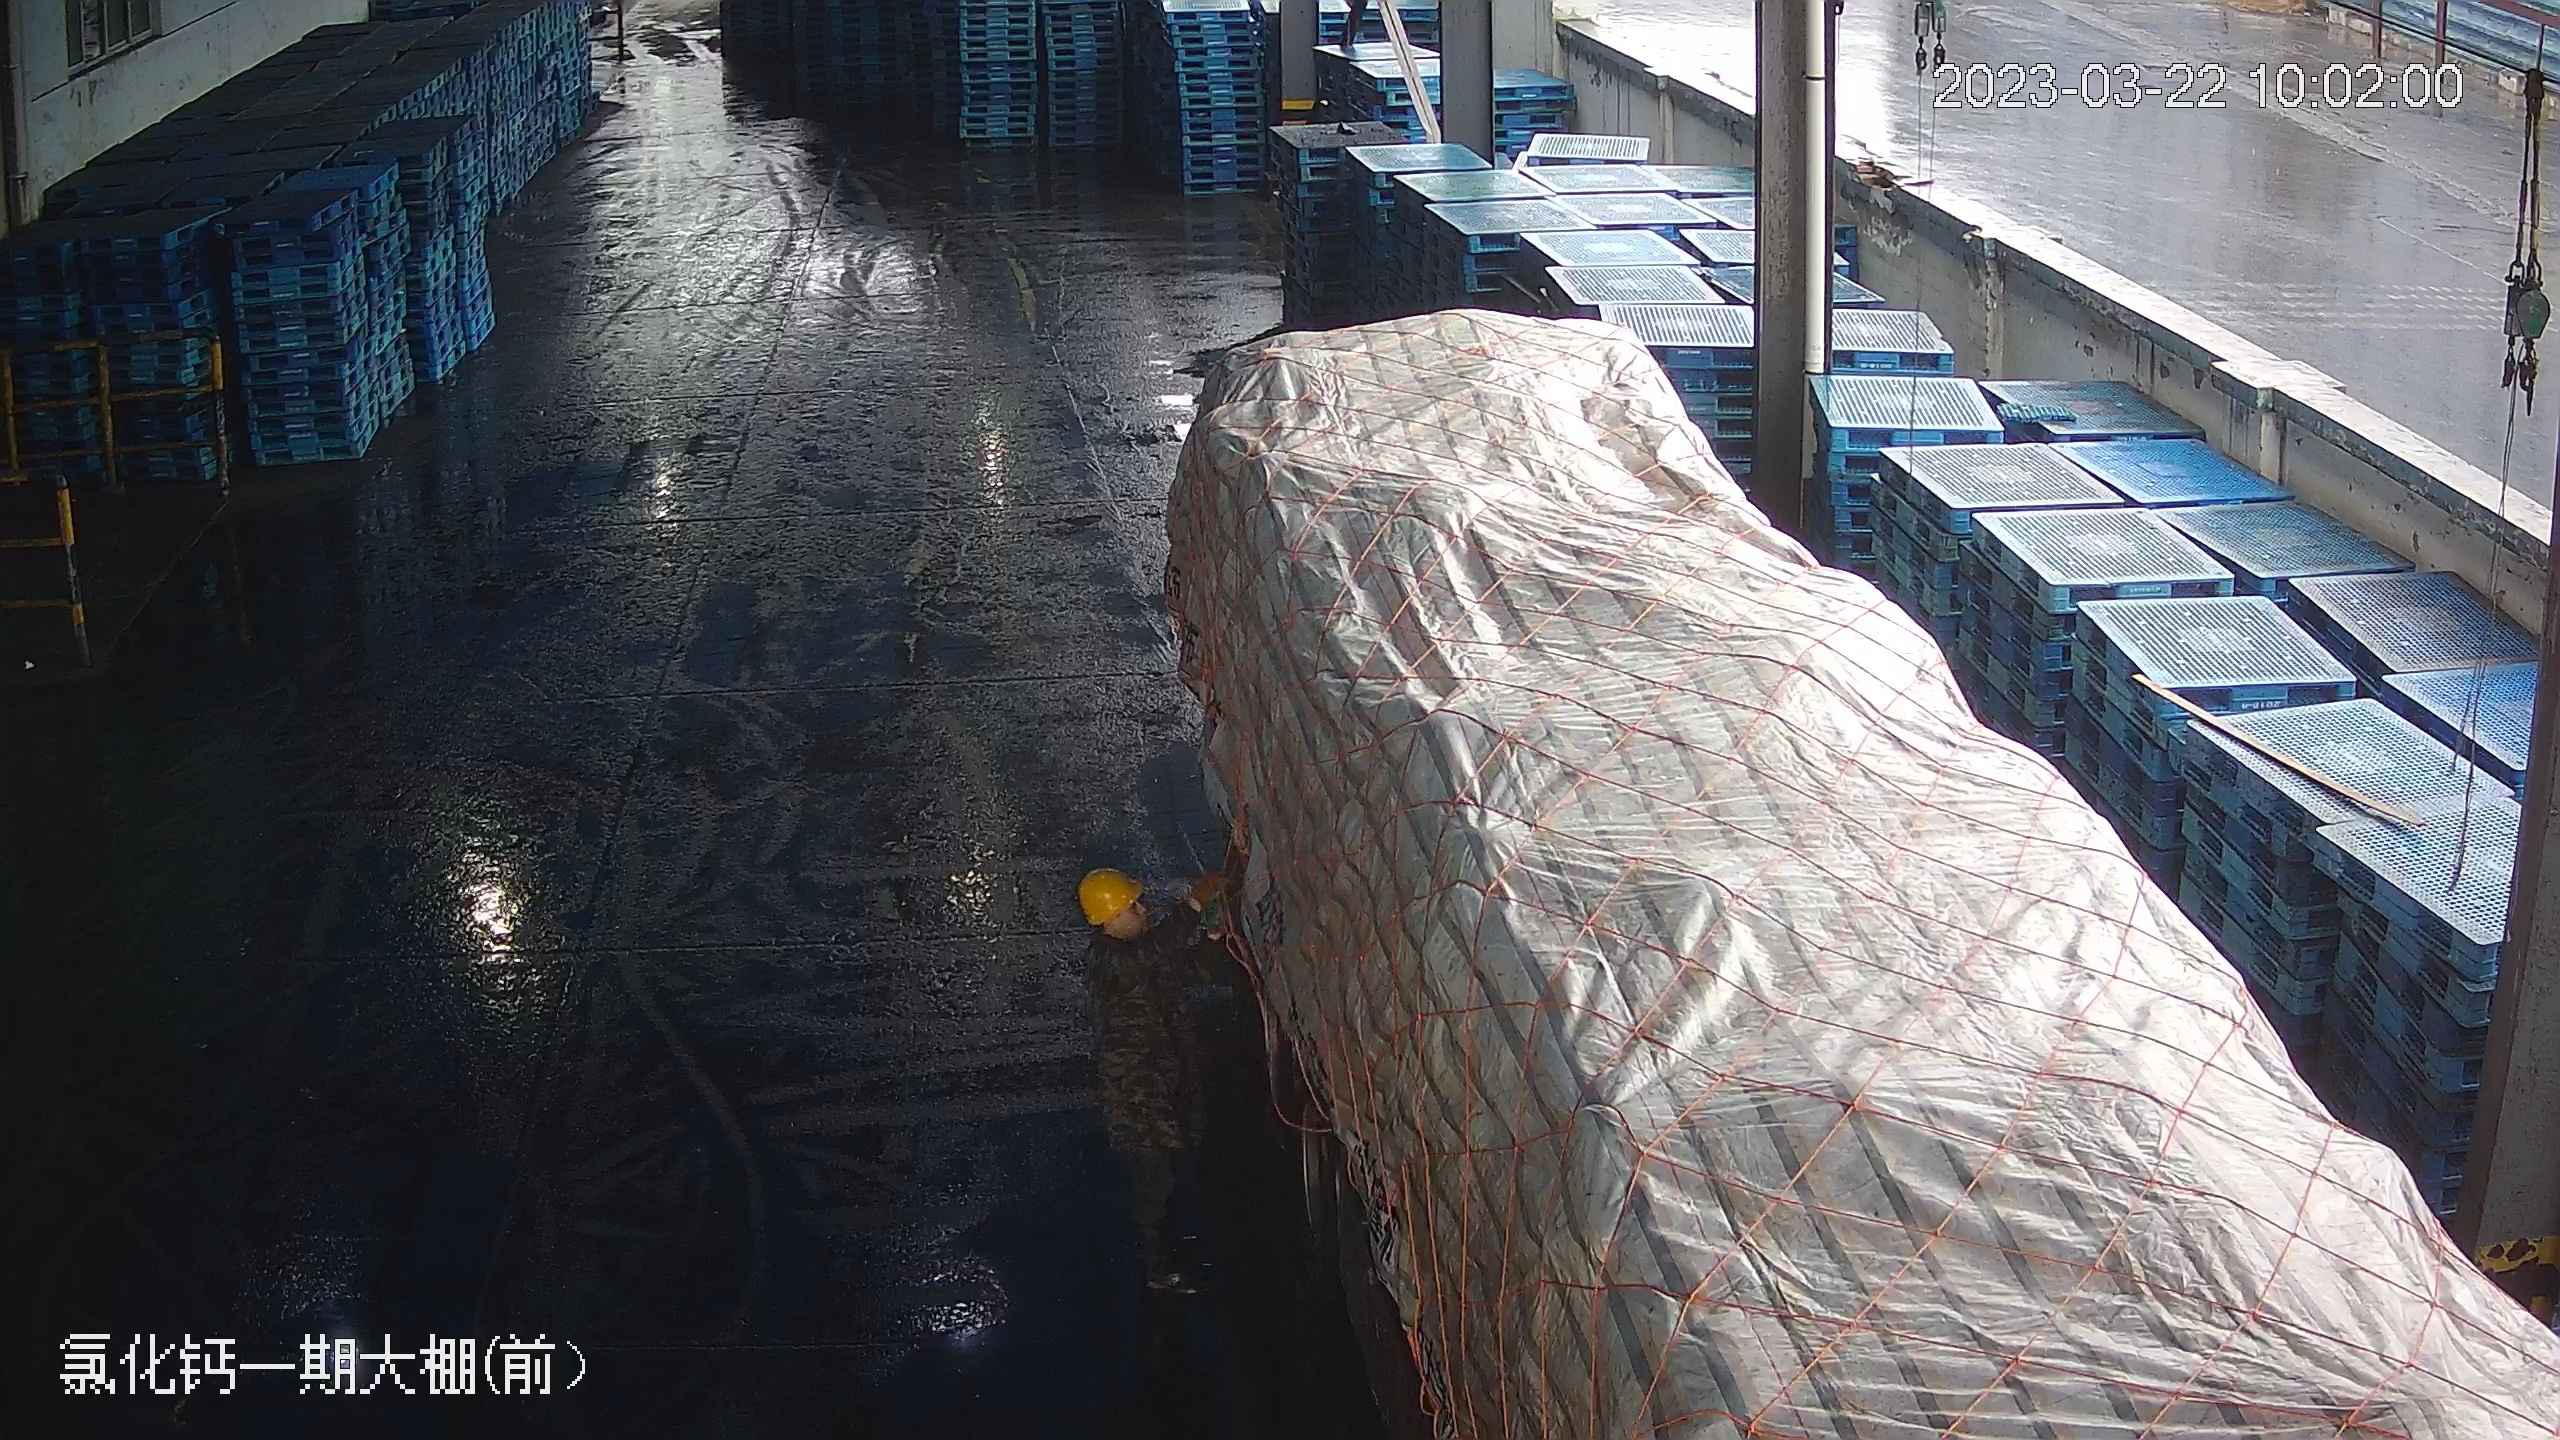head: (1074, 868, 1218, 1011)
helmet: (1077, 867, 1144, 930)
people: (1071, 862, 1262, 1296)
truck: (1118, 264, 2560, 1440)
